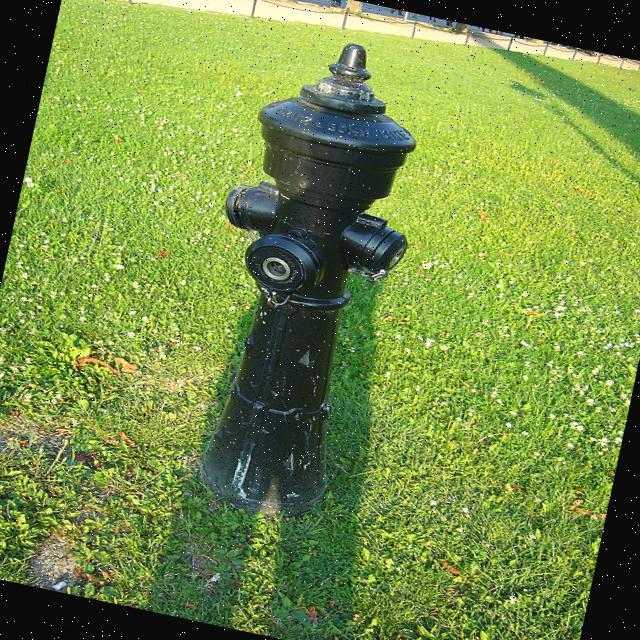fire_hydrant: (152, 18, 450, 527)
